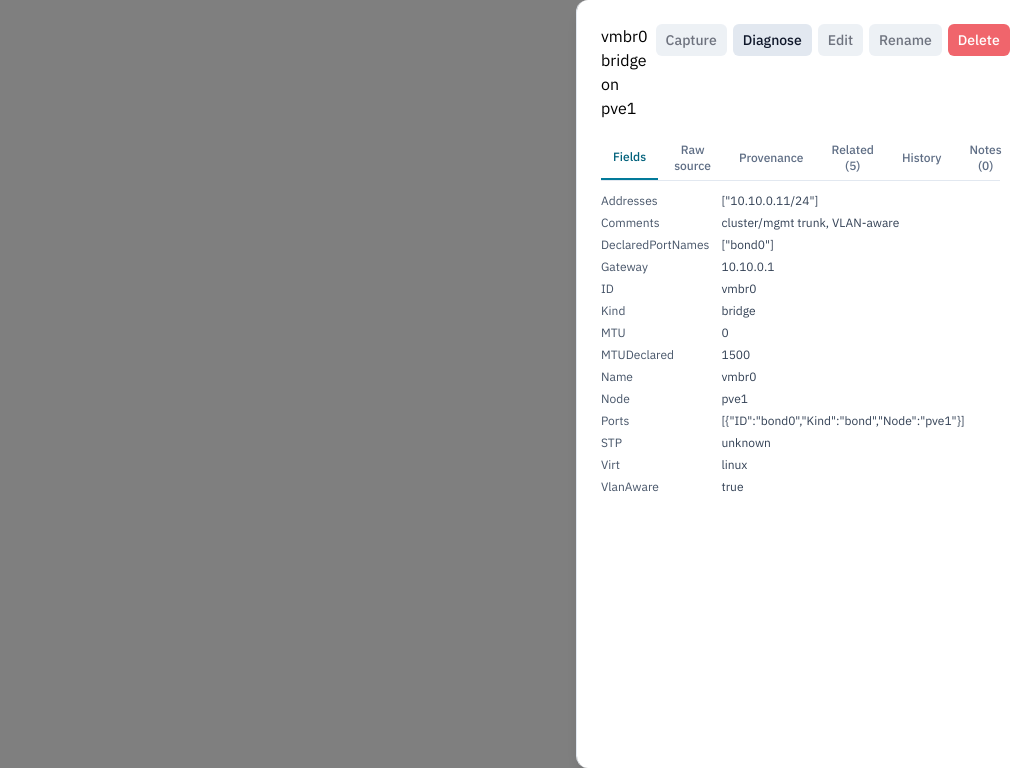
Test: InspectorPanel › handles an entity with no raw source gracefully
This screenshot has width=1024, height=768.
Expected: the text "STP" is shown, [601,435,622,450]
Click the tab "Raw source": [693, 158] box [662,136,723,180]
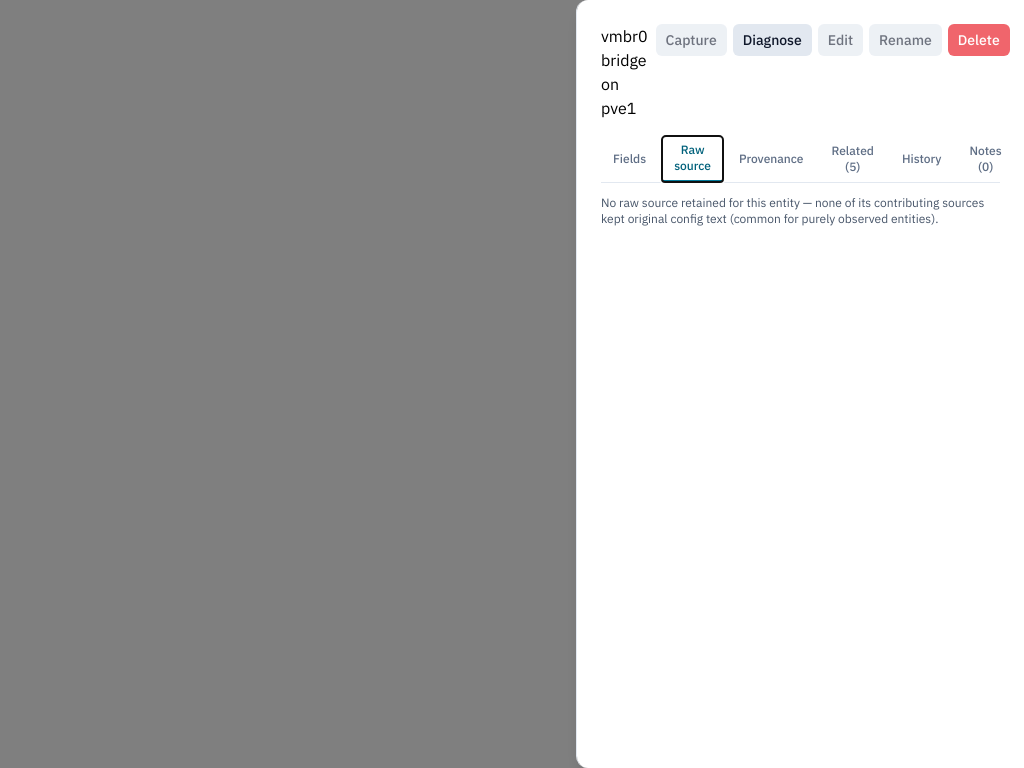
Expected: the text "No raw source retained for this entity" is shown, [601,195,984,226]
